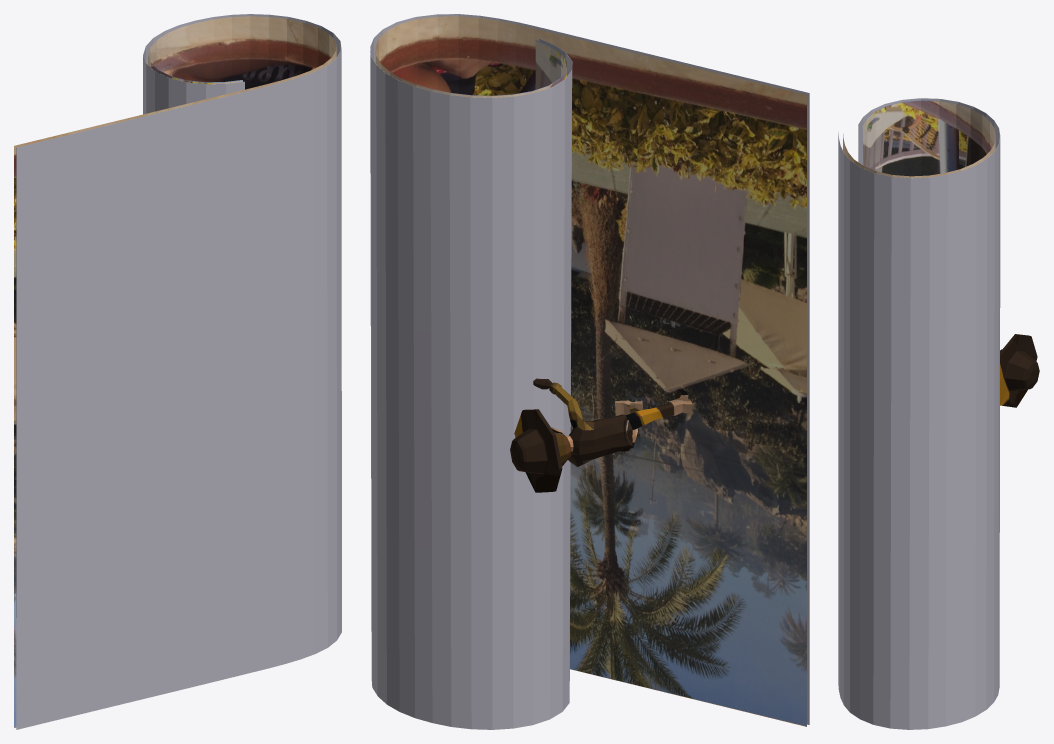
Rendered from start_file2_000041.obj.
3 renders of one model, left to right at view 1: azimuth 30°, elevation 25°; view 2: azimuth 150°, elevation 25°; view 3: azimuth 270°, elevation 25°, orthographic. The views are drawn at different scales.
Parts seen in each view (by area): view 1: Cube_Cube.001; view 2: Cube_Cube.001, Character_Cube; view 3: Cube_Cube.001, Character_Cube.
Part boxes in pixels (box(x1,y1,x2,y2)): Cube_Cube.001: box(14, 14, 341, 729); Cube_Cube.001: box(370, 14, 809, 729); Character_Cube: box(510, 378, 692, 492); Cube_Cube.001: box(838, 98, 1000, 729); Character_Cube: box(1000, 334, 1039, 407).
Size of the model in its own units: 0.9731 by 1.52 by 0.5044.
2 materials, 2 textured.
